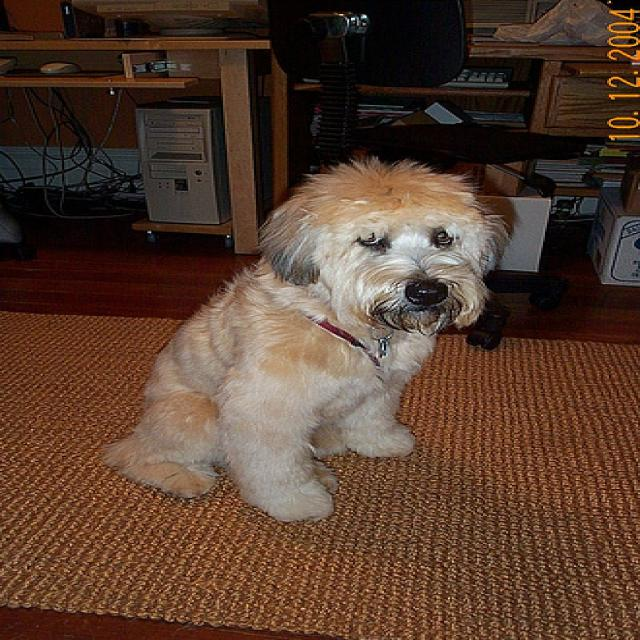dog-wheaten_terrier: (111, 159, 496, 525)
